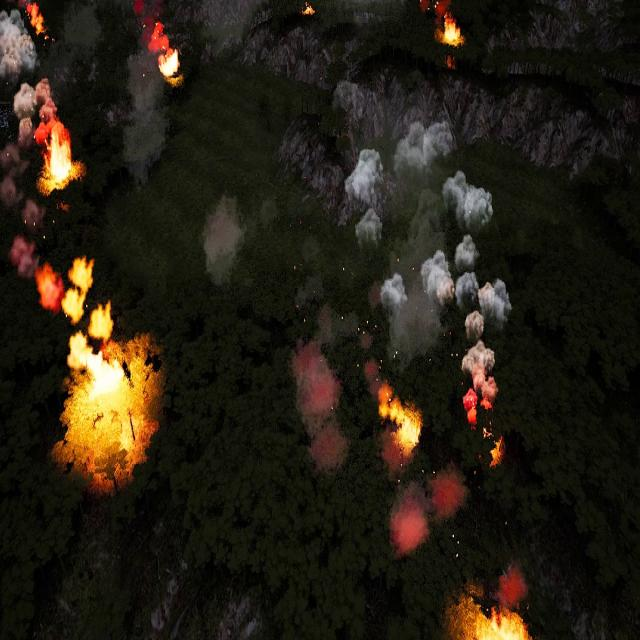fire: (38, 254, 162, 486), (463, 384, 506, 468), (380, 386, 422, 454), (468, 605, 531, 640), (150, 20, 181, 82), (42, 132, 78, 182), (26, 1, 51, 40), (441, 20, 463, 48), (300, 1, 318, 18)
smoke: (346, 118, 520, 429), (0, 5, 58, 271), (288, 338, 358, 478), (388, 465, 472, 556), (122, 45, 168, 197), (202, 192, 252, 290), (501, 563, 528, 602)
